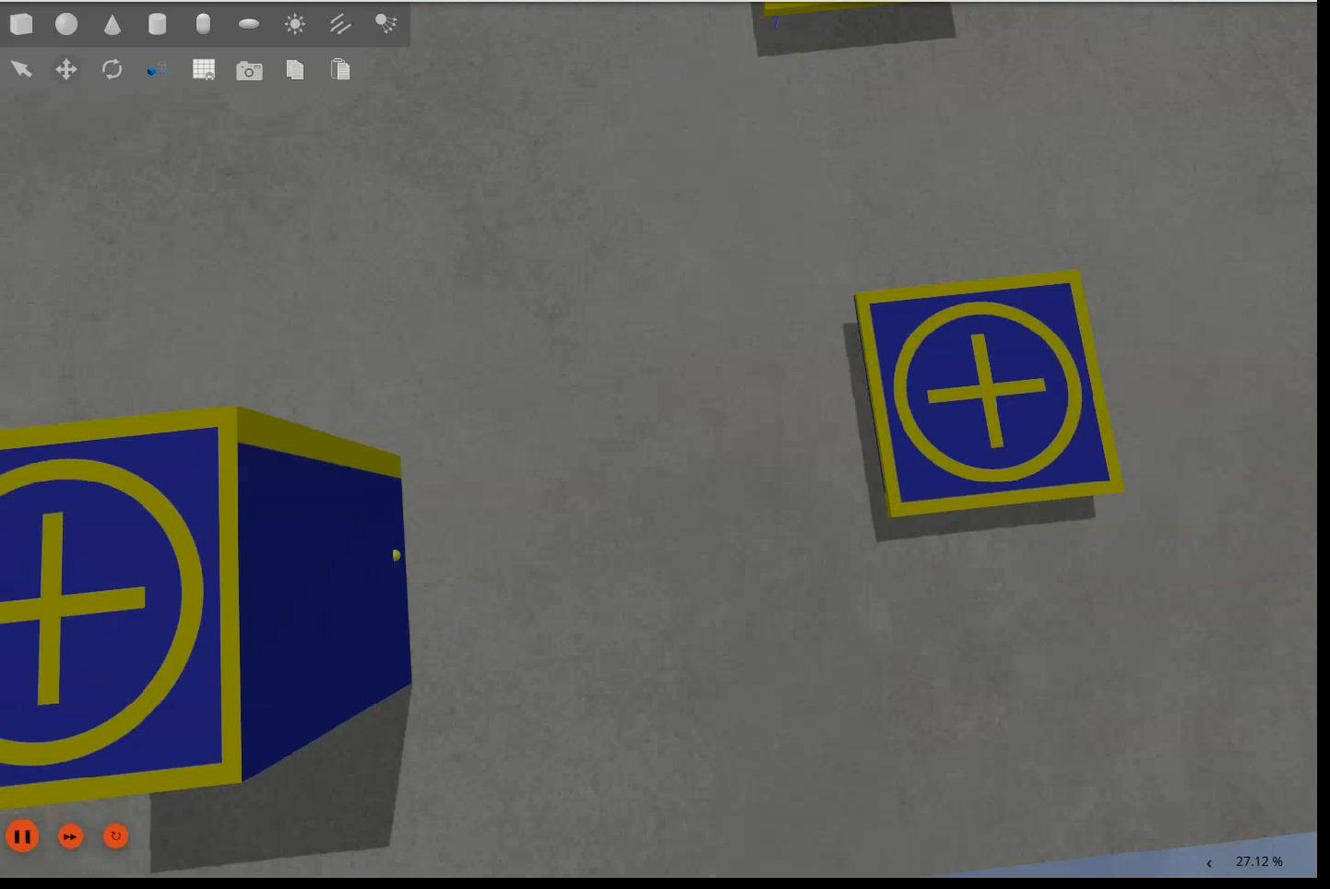small_base: (1, 408, 246, 816), (851, 271, 1126, 523)
